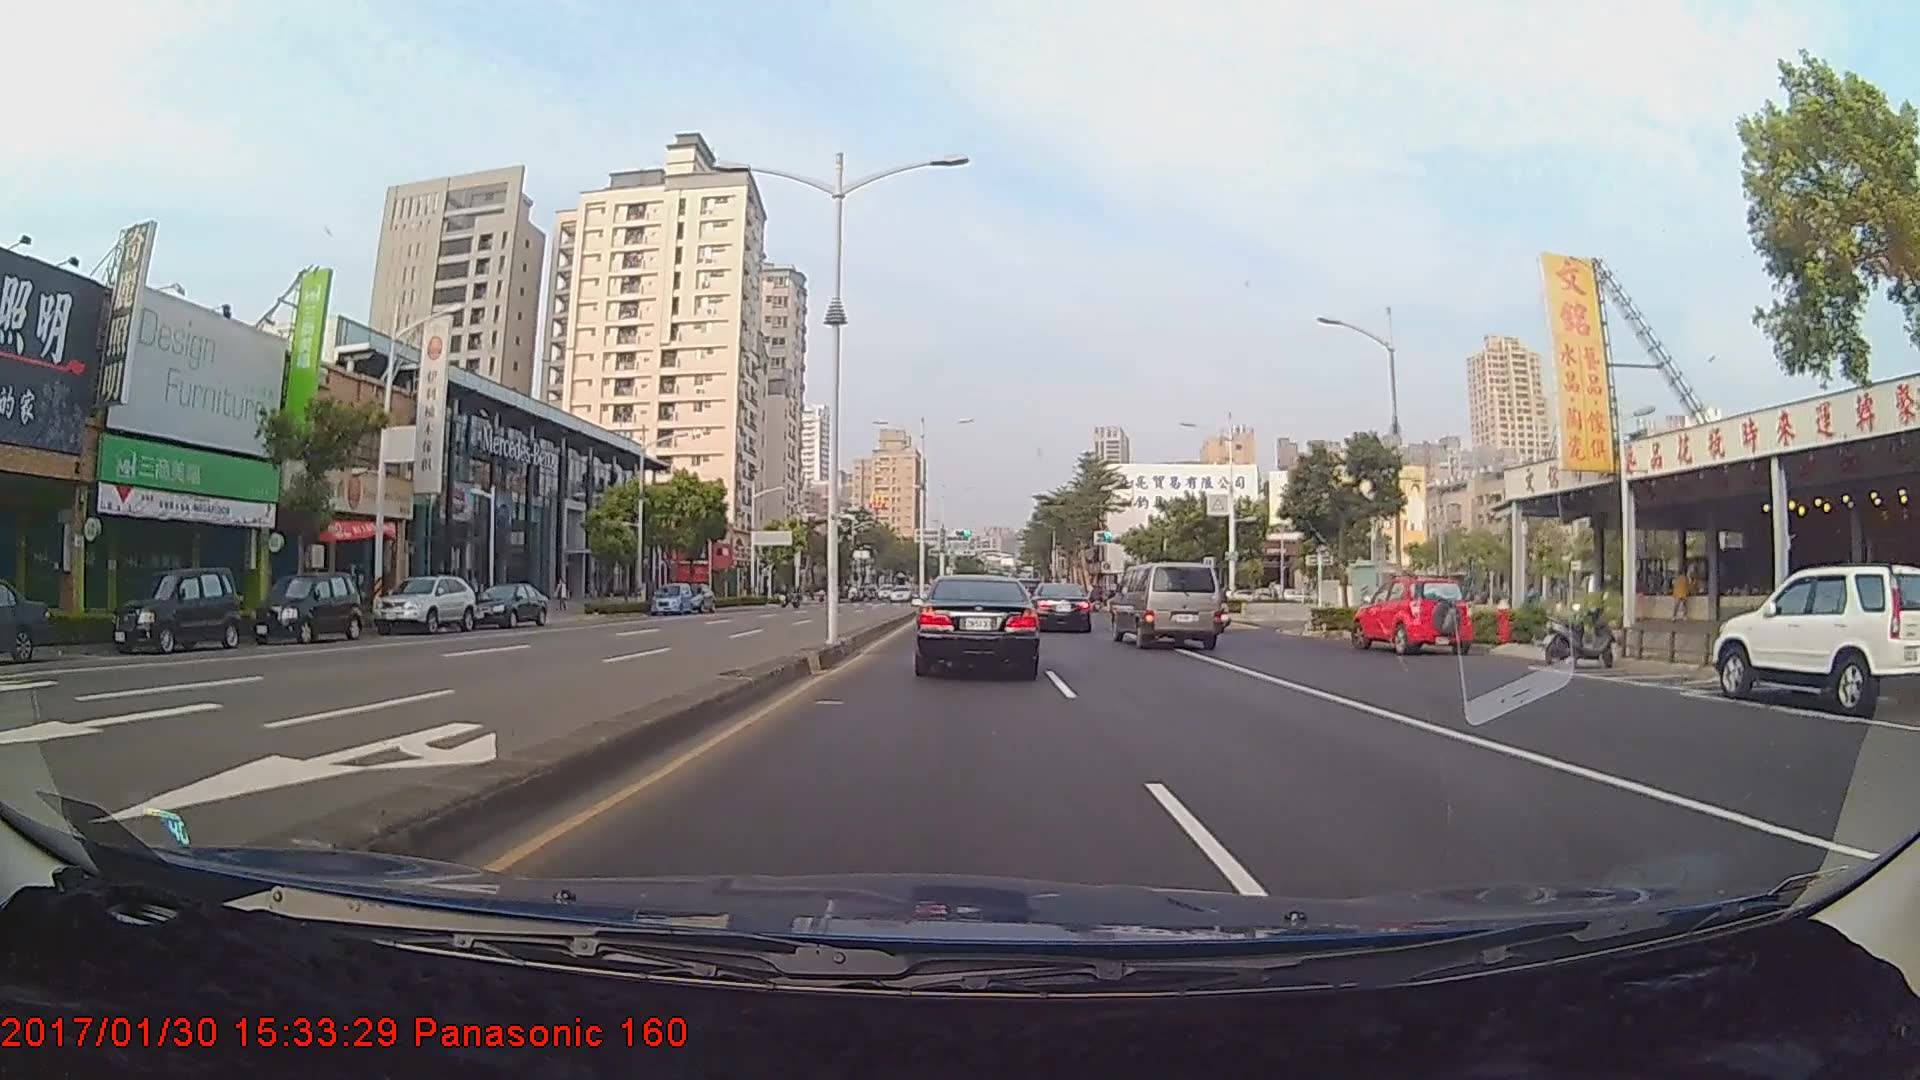pedestrian: (1669, 567, 1697, 624)
vehicle: (1709, 563, 1920, 713), (911, 574, 1041, 677), (109, 564, 240, 657), (1109, 561, 1222, 650), (1356, 575, 1469, 656), (270, 572, 360, 643), (373, 576, 478, 635), (0, 580, 55, 667), (464, 582, 549, 629), (1028, 581, 1092, 633), (648, 584, 693, 616)
